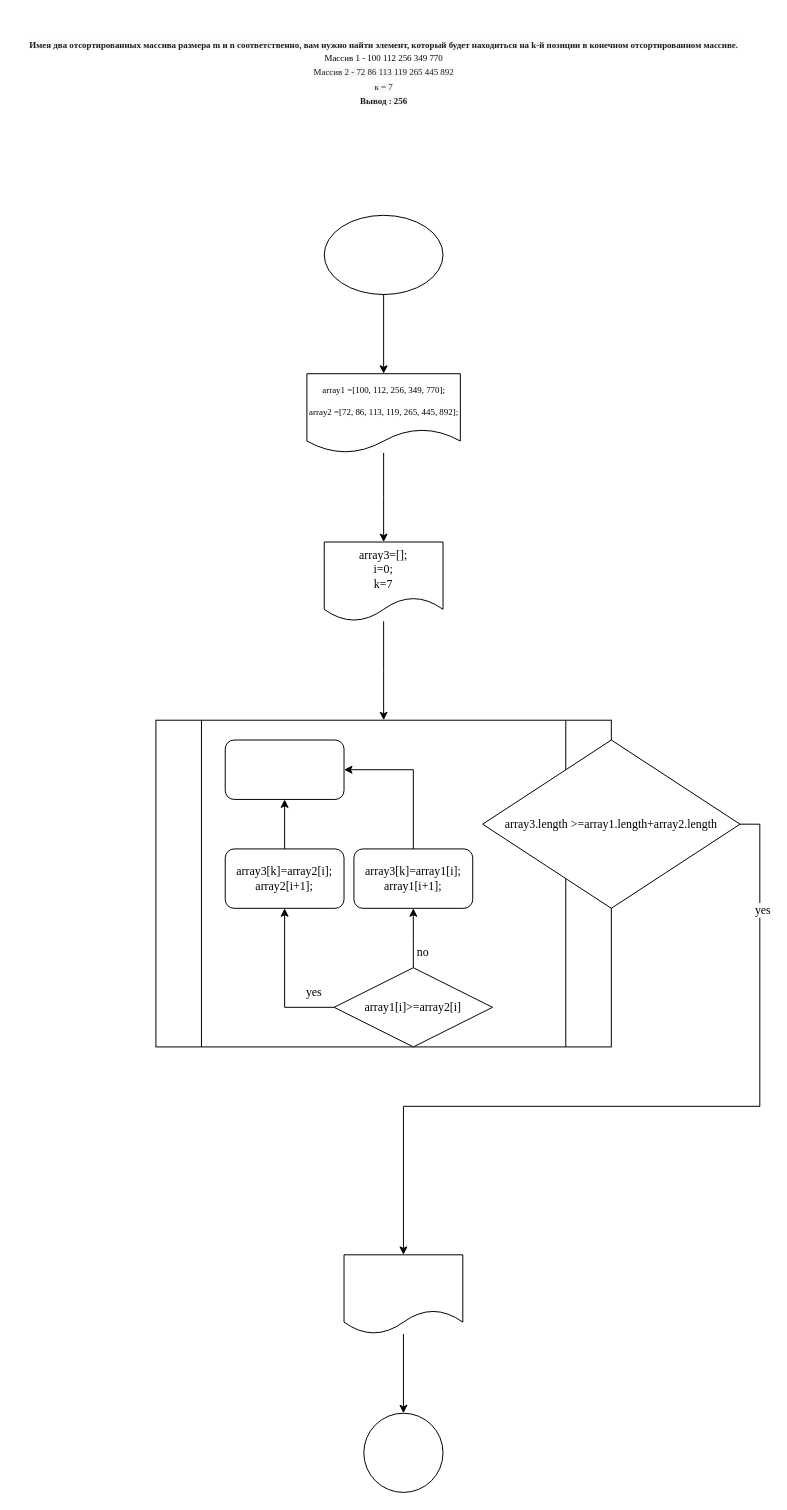
Image size: 787x1510. Some labels were removed from this diagram. The shapes that lost their labels are listed below. From the top down, each one's box as (x1, y1, x2, y2) in pixels, then its label:
(323, 214, 443, 295): start
(224, 739, 344, 799): array3[k]
(343, 1254, 463, 1334): print array3[k]
